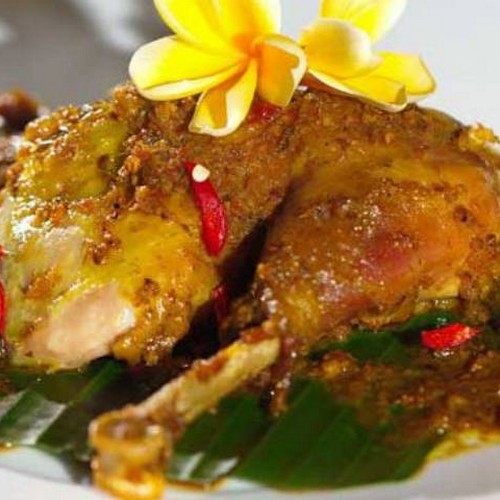ayam betutu: (13, 88, 499, 441)
